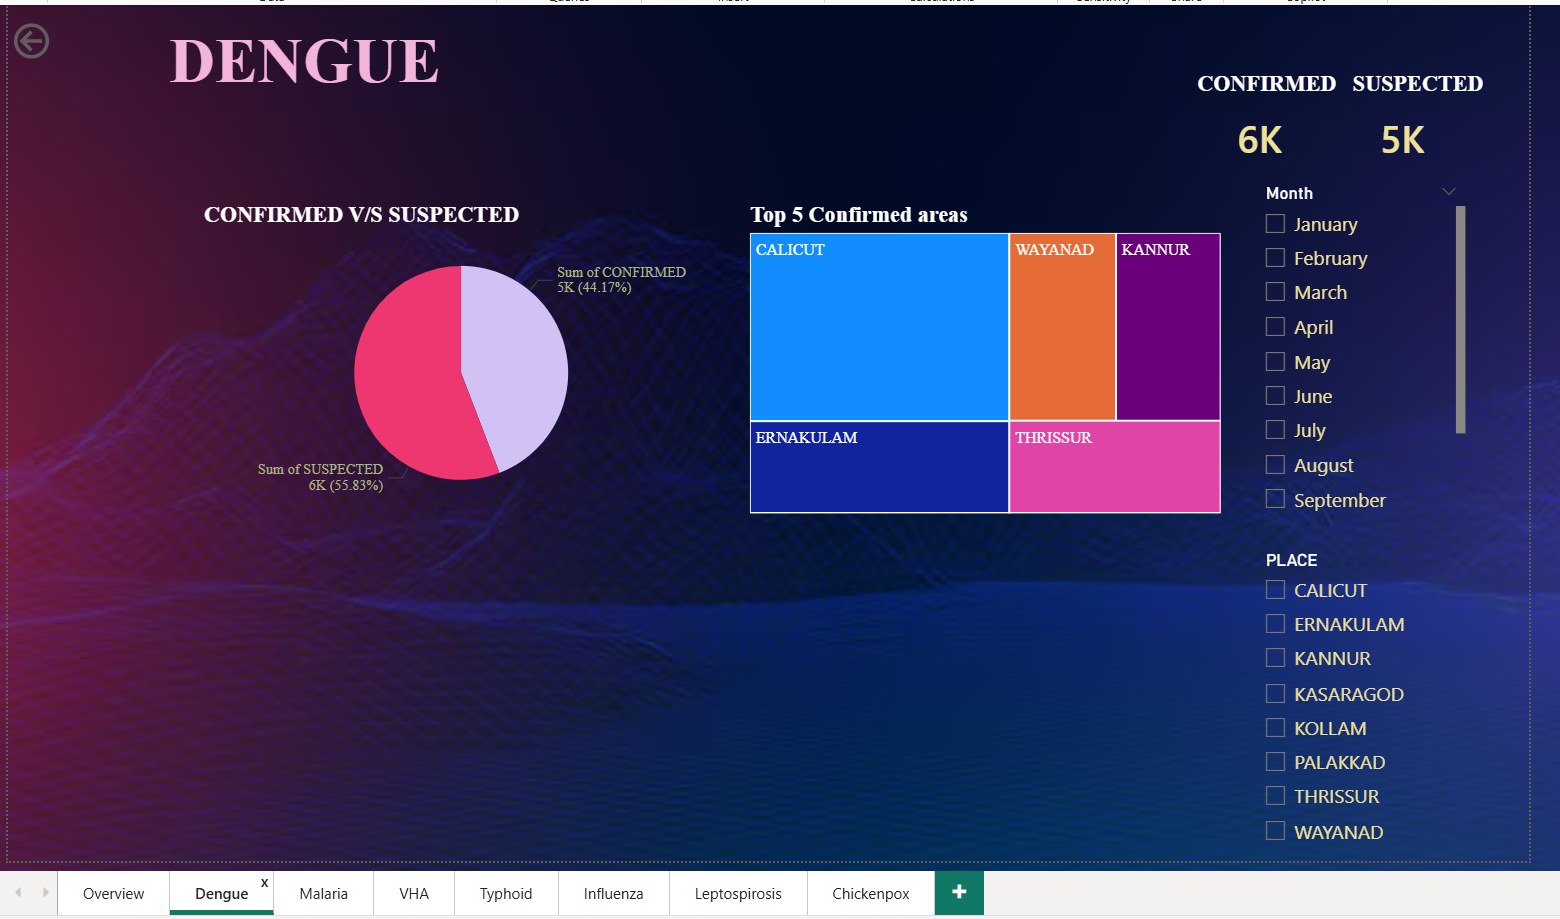

The dashboard page shown, as its layout file describes it:
{"tool":"powerbi","page":{"name":"Dengue","canvas":[1280,720],"ordinal":1},"visuals":[{"type":"cardVisual","fields":{"Data":["Sum(DISEASES.SUSPECTED)","Sum(DISEASES.CONFIRMED)"]},"box":[1004.7,30.2,267.4,161.6],"z":0},{"type":"actionButton","box":[0,10.5,100,39.5],"z":1},{"type":"textbox","box":[991.9,50,134.9,37.2],"z":2},{"type":"textbox","box":[1118.6,50,134.9,37.2],"z":3},{"type":"textbox","box":[100,11.6,300,77.9],"z":4},{"type":"slicer","fields":{"Values":["DISEASES.MONTH.Variation.Date Hierarchy.Month"]},"box":[1045.4,145.3,186,287.2],"z":5},{"type":"slicer","fields":{"Values":["DISEASES.PLACE"]},"box":[1045.4,453.5,186,266.3],"z":6},{"type":"treemap","title":"Top 5 Confirmed areas","fields":{"Group":["DISEASES.PLACE"],"Values":["Sum(DISEASES.CONFIRMED)"]},"box":[619.8,166.3,405.8,266.3],"z":8},{"type":"pieChart","title":"CONFIRMED V/S SUSPECTED","fields":{"Y":["Sum(DISEASES.CONFIRMED)","Sum(DISEASES.SUSPECTED)"]},"box":[159.3,166.3,443,266.3],"z":9}]}

Visuals, with their boxes on the page's 1280x720 design canvas (x1, y1, x2, y2). These are canvas units, not pixel positions in the 1560x919 screenshot, which may show the page scaled, cropped or inside an application window:
cardVisual - Sum(DISEASES.SUSPECTED) x Sum(DISEASES.CONFIRMED): box=[1005, 30, 1272, 192]
actionButton: box=[0, 10, 100, 50]
textbox: box=[992, 50, 1127, 87]
textbox: box=[1119, 50, 1254, 87]
textbox: box=[100, 12, 400, 90]
slicer - DISEASES.MONTH.Variation.Date Hierarchy.Month: box=[1045, 145, 1231, 432]
slicer - DISEASES.PLACE: box=[1045, 454, 1231, 720]
"Top 5 Confirmed areas" treemap: box=[620, 166, 1026, 433]
"CONFIRMED V/S SUSPECTED" pieChart: box=[159, 166, 602, 433]
